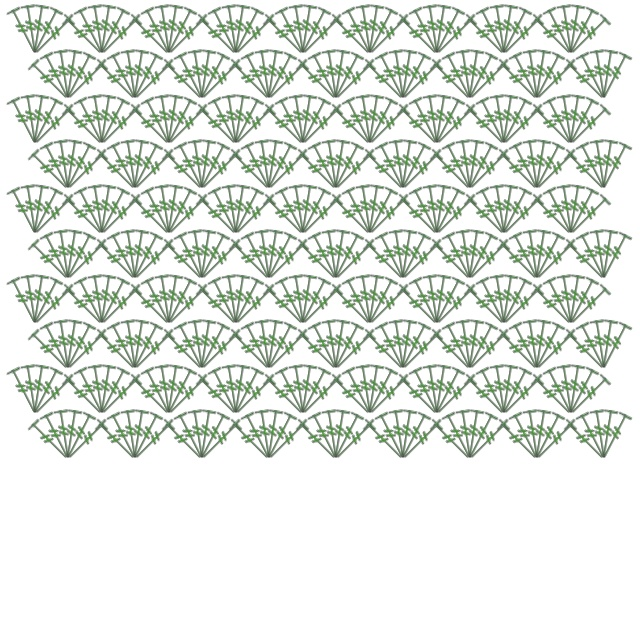fan: (29, 13, 76, 60), (61, 13, 108, 60), (96, 13, 143, 60), (128, 13, 175, 60), (163, 13, 210, 60), (195, 13, 242, 60), (230, 13, 277, 60), (262, 13, 309, 60), (297, 13, 344, 60), (329, 13, 376, 60), (364, 13, 411, 60), (396, 13, 443, 60), (431, 13, 478, 60), (463, 13, 510, 60), (498, 13, 545, 60), (530, 13, 577, 60), (565, 13, 612, 60), (27, 58, 74, 105), (62, 58, 109, 105), (94, 58, 141, 105), (129, 58, 176, 105), (161, 58, 208, 105), (196, 58, 243, 105), (228, 58, 275, 105), (263, 58, 310, 105), (295, 58, 342, 105), (330, 58, 377, 105), (362, 58, 409, 105), (397, 58, 444, 105), (429, 58, 476, 105), (464, 58, 511, 105), (496, 58, 543, 105), (531, 58, 578, 105), (563, 58, 610, 105), (29, 103, 76, 150), (61, 103, 108, 150), (96, 103, 143, 150), (128, 103, 175, 150), (163, 103, 210, 150), (195, 103, 242, 150), (230, 103, 277, 150), (262, 103, 309, 150), (297, 103, 344, 150), (329, 103, 376, 150), (364, 103, 411, 150), (396, 103, 443, 150), (431, 103, 478, 150), (463, 103, 510, 150), (498, 103, 545, 150), (530, 103, 577, 150), (565, 103, 612, 150), (27, 148, 74, 195), (62, 148, 109, 195), (94, 148, 141, 195), (129, 148, 176, 195), (161, 148, 208, 195), (196, 148, 243, 195), (228, 148, 275, 195), (263, 148, 310, 195), (295, 148, 342, 195), (330, 148, 377, 195), (362, 148, 409, 195), (397, 148, 444, 195), (429, 148, 476, 195), (464, 148, 511, 195), (496, 148, 543, 195), (531, 148, 578, 195), (563, 148, 610, 195), (29, 193, 76, 240), (61, 193, 108, 240), (96, 193, 143, 240), (128, 193, 175, 240), (163, 193, 210, 240), (195, 193, 242, 240), (230, 193, 277, 240), (262, 193, 309, 240), (297, 193, 344, 240), (329, 193, 376, 240), (364, 193, 411, 240), (396, 193, 443, 240), (431, 193, 478, 240), (463, 193, 510, 240), (498, 193, 545, 240), (530, 193, 577, 240), (565, 193, 612, 240), (27, 238, 74, 285), (62, 238, 109, 285), (94, 238, 141, 285), (129, 238, 176, 285), (161, 238, 208, 285), (196, 238, 243, 285), (228, 238, 275, 285), (263, 238, 310, 285), (295, 238, 342, 285), (330, 238, 377, 285), (362, 238, 409, 285), (397, 238, 444, 285), (429, 238, 476, 285), (464, 238, 511, 285), (496, 238, 543, 285), (531, 238, 578, 285), (563, 238, 610, 285), (29, 283, 76, 330), (61, 283, 108, 330), (96, 283, 143, 330), (128, 283, 175, 330), (163, 283, 210, 330), (195, 283, 242, 330), (230, 283, 277, 330), (262, 283, 309, 330), (297, 283, 344, 330), (329, 283, 376, 330), (364, 283, 411, 330), (396, 283, 443, 330), (431, 283, 478, 330), (463, 283, 510, 330), (498, 283, 545, 330), (530, 283, 577, 330), (565, 283, 612, 330), (27, 328, 74, 375), (62, 328, 109, 375), (94, 328, 141, 375), (129, 328, 176, 375), (161, 328, 208, 375), (196, 328, 243, 375), (228, 328, 275, 375), (263, 328, 310, 375), (295, 328, 342, 375), (330, 328, 377, 375), (362, 328, 409, 375), (397, 328, 444, 375), (429, 328, 476, 375), (464, 328, 511, 375), (496, 328, 543, 375), (531, 328, 578, 375), (563, 328, 610, 375), (29, 373, 76, 420), (61, 373, 108, 420), (96, 373, 143, 420), (128, 373, 175, 420), (163, 373, 210, 420), (195, 373, 242, 420), (230, 373, 277, 420), (262, 373, 309, 420), (297, 373, 344, 420), (329, 373, 376, 420), (364, 373, 411, 420), (396, 373, 443, 420), (431, 373, 478, 420), (463, 373, 510, 420), (498, 373, 545, 420), (530, 373, 577, 420), (565, 373, 612, 420), (27, 418, 74, 465), (62, 418, 109, 465), (94, 418, 141, 465), (129, 418, 176, 465), (161, 418, 208, 465), (196, 418, 243, 465), (228, 418, 275, 465), (263, 418, 310, 465), (295, 418, 342, 465), (330, 418, 377, 465), (362, 418, 409, 465), (397, 418, 444, 465), (429, 418, 476, 465), (464, 418, 511, 465), (496, 418, 543, 465), (531, 418, 578, 465), (563, 418, 610, 465), (5, 6, 43, 58), (27, 6, 65, 58), (72, 6, 110, 58), (94, 6, 132, 58), (139, 6, 177, 58), (161, 6, 199, 58), (206, 6, 244, 58), (228, 6, 266, 58), (273, 6, 311, 58), (295, 6, 333, 58), (340, 6, 378, 58), (362, 6, 400, 58), (407, 6, 445, 58), (429, 6, 467, 58), (474, 6, 512, 58), (496, 6, 534, 58), (541, 6, 579, 58), (563, 6, 601, 58), (38, 51, 76, 103), (60, 51, 98, 103), (105, 51, 143, 103), (127, 51, 165, 103), (172, 51, 210, 103), (194, 51, 232, 103), (239, 51, 277, 103), (261, 51, 299, 103), (306, 51, 344, 103), (328, 51, 366, 103), (373, 51, 411, 103), (395, 51, 433, 103), (440, 51, 478, 103), (462, 51, 500, 103), (507, 51, 545, 103), (529, 51, 567, 103), (574, 51, 612, 103), (596, 51, 634, 103), (5, 96, 43, 148), (27, 96, 65, 148), (72, 96, 110, 148), (94, 96, 132, 148), (139, 96, 177, 148), (161, 96, 199, 148), (206, 96, 244, 148), (228, 96, 266, 148), (273, 96, 311, 148), (295, 96, 333, 148), (340, 96, 378, 148), (362, 96, 400, 148), (407, 96, 445, 148), (429, 96, 467, 148), (474, 96, 512, 148), (496, 96, 534, 148), (541, 96, 579, 148), (563, 96, 601, 148), (38, 141, 76, 193), (60, 141, 98, 193), (105, 141, 143, 193), (127, 141, 165, 193), (172, 141, 210, 193), (194, 141, 232, 193), (239, 141, 277, 193), (261, 141, 299, 193), (306, 141, 344, 193), (328, 141, 366, 193), (373, 141, 411, 193), (395, 141, 433, 193), (440, 141, 478, 193), (462, 141, 500, 193), (507, 141, 545, 193), (529, 141, 567, 193), (574, 141, 612, 193), (596, 141, 634, 193), (5, 186, 43, 238), (27, 186, 65, 238), (72, 186, 110, 238), (94, 186, 132, 238), (139, 186, 177, 238), (161, 186, 199, 238), (206, 186, 244, 238), (228, 186, 266, 238), (273, 186, 311, 238), (295, 186, 333, 238), (340, 186, 378, 238), (362, 186, 400, 238), (407, 186, 445, 238), (429, 186, 467, 238), (474, 186, 512, 238), (496, 186, 534, 238), (541, 186, 579, 238), (563, 186, 601, 238), (38, 231, 76, 283), (60, 231, 98, 283), (105, 231, 143, 283), (127, 231, 165, 283), (172, 231, 210, 283), (194, 231, 232, 283), (239, 231, 277, 283), (261, 231, 299, 283), (306, 231, 344, 283), (328, 231, 366, 283), (373, 231, 411, 283), (395, 231, 433, 283), (440, 231, 478, 283), (462, 231, 500, 283), (507, 231, 545, 283), (529, 231, 567, 283), (574, 231, 612, 283), (596, 231, 634, 283), (5, 276, 43, 328), (27, 276, 65, 328), (72, 276, 110, 328), (94, 276, 132, 328), (139, 276, 177, 328), (161, 276, 199, 328), (206, 276, 244, 328), (228, 276, 266, 328), (273, 276, 311, 328), (295, 276, 333, 328), (340, 276, 378, 328), (362, 276, 400, 328), (407, 276, 445, 328), (429, 276, 467, 328), (474, 276, 512, 328), (496, 276, 534, 328), (541, 276, 579, 328), (563, 276, 601, 328), (38, 321, 76, 373), (60, 321, 98, 373), (105, 321, 143, 373), (127, 321, 165, 373), (172, 321, 210, 373), (194, 321, 232, 373), (239, 321, 277, 373), (261, 321, 299, 373), (306, 321, 344, 373), (328, 321, 366, 373), (373, 321, 411, 373), (395, 321, 433, 373), (440, 321, 478, 373), (462, 321, 500, 373), (507, 321, 545, 373), (529, 321, 567, 373), (574, 321, 612, 373), (596, 321, 634, 373), (5, 366, 43, 418), (27, 366, 65, 418), (72, 366, 110, 418), (94, 366, 132, 418), (139, 366, 177, 418), (161, 366, 199, 418), (206, 366, 244, 418), (228, 366, 266, 418), (273, 366, 311, 418), (295, 366, 333, 418), (340, 366, 378, 418), (362, 366, 400, 418), (407, 366, 445, 418), (429, 366, 467, 418), (474, 366, 512, 418), (496, 366, 534, 418), (541, 366, 579, 418), (563, 366, 601, 418), (38, 411, 76, 463), (60, 411, 98, 463), (105, 411, 143, 463), (127, 411, 165, 463), (172, 411, 210, 463), (194, 411, 232, 463), (239, 411, 277, 463), (261, 411, 299, 463), (306, 411, 344, 463), (328, 411, 366, 463), (373, 411, 411, 463), (395, 411, 433, 463), (440, 411, 478, 463), (462, 411, 500, 463), (507, 411, 545, 463), (529, 411, 567, 463), (574, 411, 612, 463), (596, 411, 634, 463), (19, 3, 43, 55), (27, 3, 51, 55), (86, 3, 110, 55), (94, 3, 118, 55), (153, 3, 177, 55), (161, 3, 185, 55), (220, 3, 244, 55), (228, 3, 252, 55), (287, 3, 311, 55), (295, 3, 319, 55), (354, 3, 378, 55), (362, 3, 386, 55), (421, 3, 445, 55), (429, 3, 453, 55), (488, 3, 512, 55), (496, 3, 520, 55), (555, 3, 579, 55), (563, 3, 587, 55), (52, 48, 76, 100), (60, 48, 84, 100), (119, 48, 143, 100), (127, 48, 151, 100), (186, 48, 210, 100), (194, 48, 218, 100), (253, 48, 277, 100), (261, 48, 285, 100), (320, 48, 344, 100), (328, 48, 352, 100), (387, 48, 411, 100), (395, 48, 419, 100), (454, 48, 478, 100), (462, 48, 486, 100), (521, 48, 545, 100), (529, 48, 553, 100), (588, 48, 612, 100), (596, 48, 620, 100), (19, 93, 43, 145), (27, 93, 51, 145), (86, 93, 110, 145), (94, 93, 118, 145), (153, 93, 177, 145), (161, 93, 185, 145), (220, 93, 244, 145), (228, 93, 252, 145), (287, 93, 311, 145), (295, 93, 319, 145), (354, 93, 378, 145), (362, 93, 386, 145), (421, 93, 445, 145), (429, 93, 453, 145), (488, 93, 512, 145), (496, 93, 520, 145), (555, 93, 579, 145), (563, 93, 587, 145), (52, 138, 76, 190), (60, 138, 84, 190), (119, 138, 143, 190), (127, 138, 151, 190), (186, 138, 210, 190), (194, 138, 218, 190), (253, 138, 277, 190), (261, 138, 285, 190), (320, 138, 344, 190), (328, 138, 352, 190), (387, 138, 411, 190), (395, 138, 419, 190), (454, 138, 478, 190), (462, 138, 486, 190), (521, 138, 545, 190), (529, 138, 553, 190), (588, 138, 612, 190), (596, 138, 620, 190), (19, 183, 43, 235), (27, 183, 51, 235), (86, 183, 110, 235), (94, 183, 118, 235), (153, 183, 177, 235), (161, 183, 185, 235), (220, 183, 244, 235), (228, 183, 252, 235), (287, 183, 311, 235), (295, 183, 319, 235), (354, 183, 378, 235), (362, 183, 386, 235), (421, 183, 445, 235), (429, 183, 453, 235), (488, 183, 512, 235), (496, 183, 520, 235), (555, 183, 579, 235), (563, 183, 587, 235), (52, 228, 76, 280), (60, 228, 84, 280), (119, 228, 143, 280), (127, 228, 151, 280), (186, 228, 210, 280), (194, 228, 218, 280), (253, 228, 277, 280), (261, 228, 285, 280), (320, 228, 344, 280), (328, 228, 352, 280), (387, 228, 411, 280), (395, 228, 419, 280), (454, 228, 478, 280), (462, 228, 486, 280), (521, 228, 545, 280), (529, 228, 553, 280), (588, 228, 612, 280), (596, 228, 620, 280), (19, 273, 43, 325), (27, 273, 51, 325), (86, 273, 110, 325), (94, 273, 118, 325), (153, 273, 177, 325), (161, 273, 185, 325), (220, 273, 244, 325), (228, 273, 252, 325), (287, 273, 311, 325), (295, 273, 319, 325), (354, 273, 378, 325), (362, 273, 386, 325), (421, 273, 445, 325), (429, 273, 453, 325), (488, 273, 512, 325), (496, 273, 520, 325), (555, 273, 579, 325), (563, 273, 587, 325), (52, 318, 76, 370), (60, 318, 84, 370), (119, 318, 143, 370), (127, 318, 151, 370), (186, 318, 210, 370), (194, 318, 218, 370), (253, 318, 277, 370), (261, 318, 285, 370), (320, 318, 344, 370), (328, 318, 352, 370), (387, 318, 411, 370), (395, 318, 419, 370), (454, 318, 478, 370), (462, 318, 486, 370), (521, 318, 545, 370), (529, 318, 553, 370), (588, 318, 612, 370), (596, 318, 620, 370), (19, 363, 43, 415), (27, 363, 51, 415), (86, 363, 110, 415), (94, 363, 118, 415), (153, 363, 177, 415), (161, 363, 185, 415), (220, 363, 244, 415), (228, 363, 252, 415), (287, 363, 311, 415), (295, 363, 319, 415), (354, 363, 378, 415), (362, 363, 386, 415), (421, 363, 445, 415), (429, 363, 453, 415), (488, 363, 512, 415), (496, 363, 520, 415), (555, 363, 579, 415), (563, 363, 587, 415), (52, 408, 76, 460), (60, 408, 84, 460), (119, 408, 143, 460), (127, 408, 151, 460), (186, 408, 210, 460), (194, 408, 218, 460), (253, 408, 277, 460), (261, 408, 285, 460), (320, 408, 344, 460), (328, 408, 352, 460), (387, 408, 411, 460), (395, 408, 419, 460), (454, 408, 478, 460), (462, 408, 486, 460), (521, 408, 545, 460), (529, 408, 553, 460), (588, 408, 612, 460), (596, 408, 620, 460)
